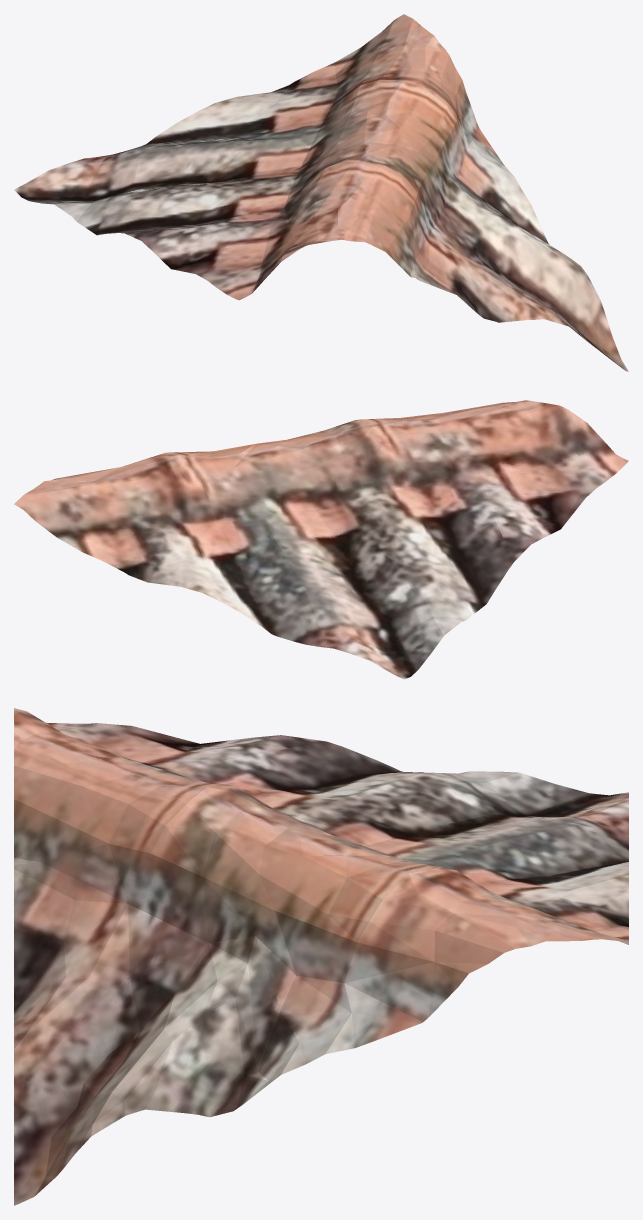
3 renders of one model, top to bottom at view 1: azimuth 30°, elevation 25°; view 2: azimuth 150°, elevation 25°; view 3: azimuth 270°, elevation 25°, orthographic. The views are drawn at different scales.
Size of the model in its own units: 0.8373 by 0.4247 by 0.8374.
3 materials, 3 textured.
